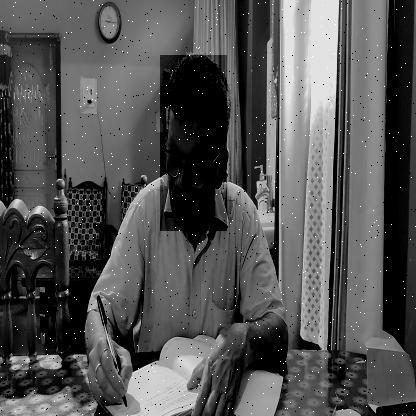Normal: (160, 55, 227, 231)
